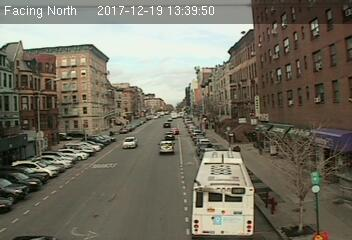bus: (191, 150, 255, 237)
car: (159, 140, 173, 152), (122, 137, 137, 148)
